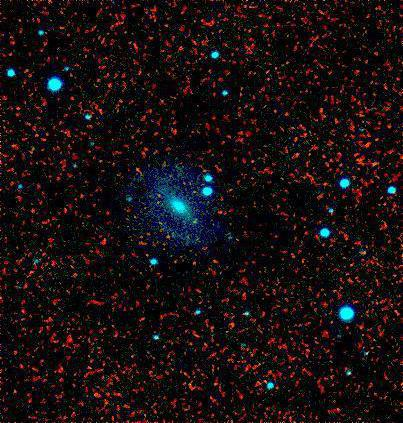star: (180, 206, 210, 236)
